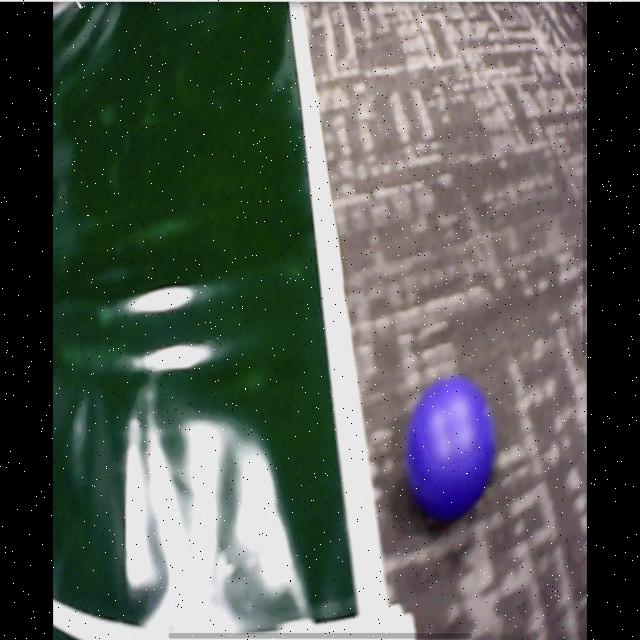ball: (407, 379, 494, 516)
